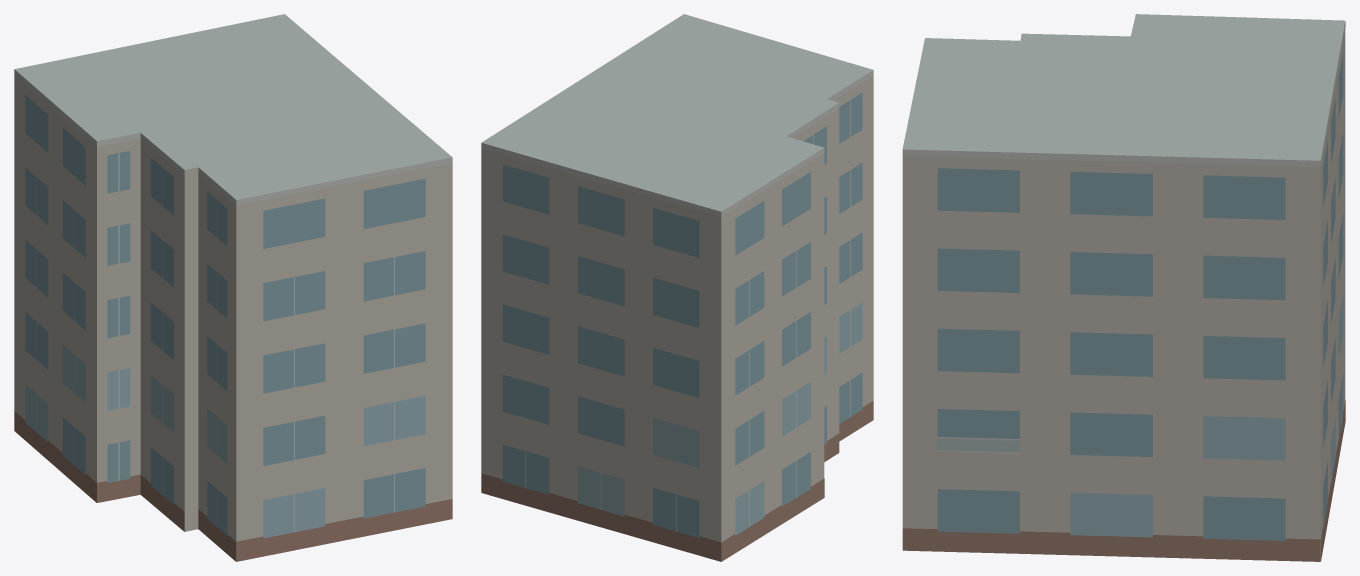
File: survey-upis-32766078.glb
The picture shows the model from 3 angles, left to right: view 1: azimuth 30°, elevation 25°; view 2: azimuth 150°, elevation 25°; view 3: azimuth 270°, elevation 25°; orthographic projection. The views are drawn at different scales.
Visible parts, largest first — view 1: survey-upis-32766078.tmp; view 2: survey-upis-32766078.tmp; view 3: survey-upis-32766078.tmp.
Part boxes in pixels (left/top/right/bottom): survey-upis-32766078.tmp: left=14, top=14, right=452, bottom=561; survey-upis-32766078.tmp: left=481, top=14, right=873, bottom=561; survey-upis-32766078.tmp: left=902, top=14, right=1345, bottom=561.
Bounding box in the file's own units: 12.29 × 15.65 × 15.67.
